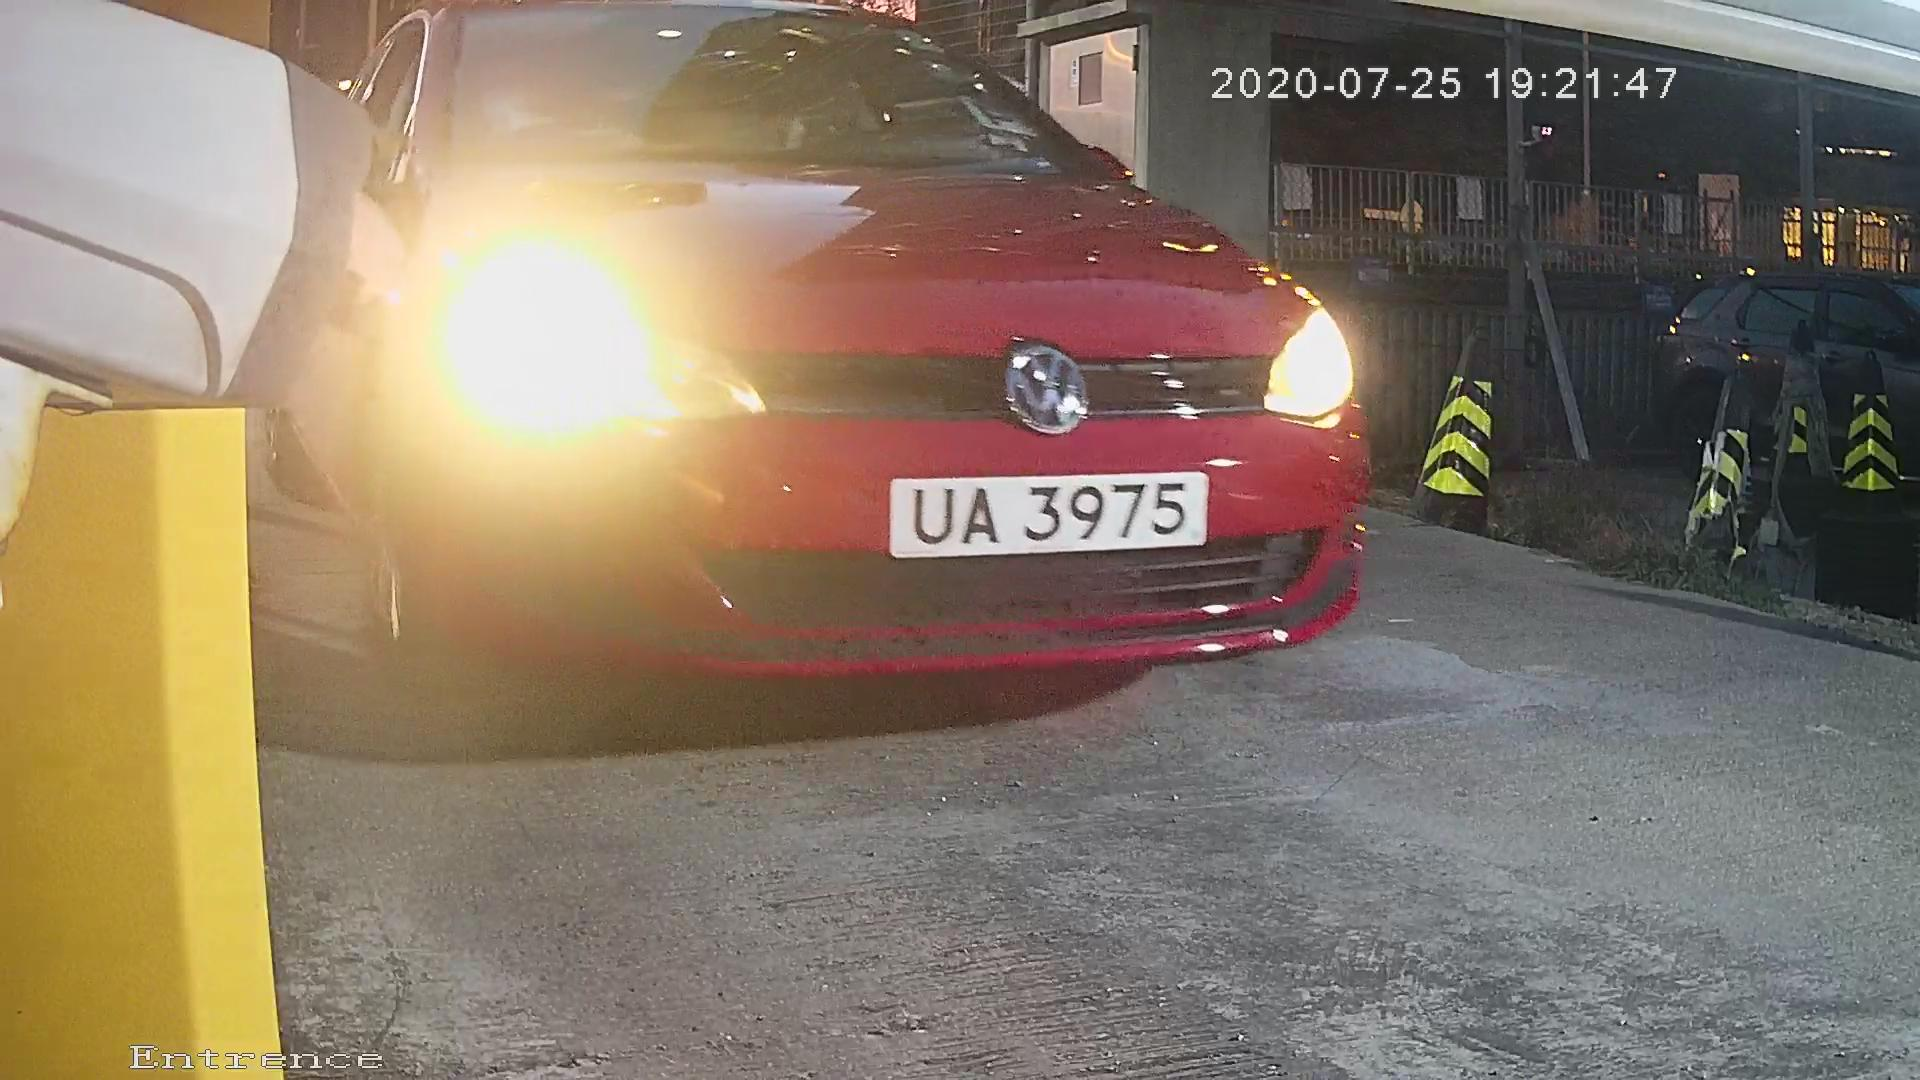License Plate: (858, 463, 1252, 560)
